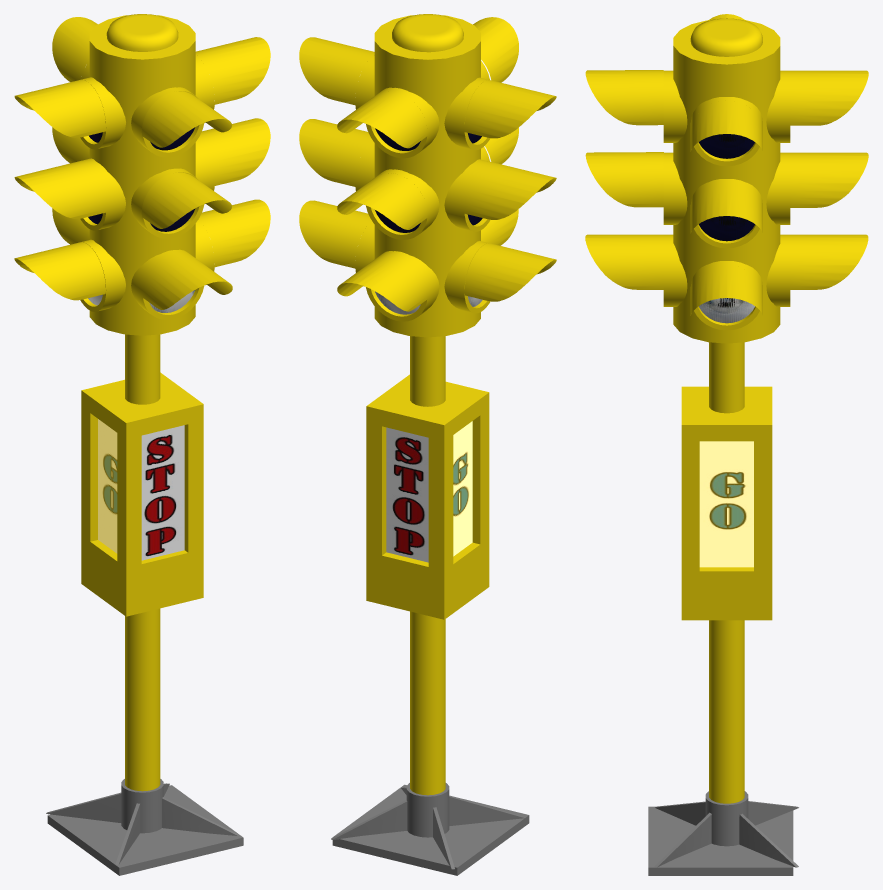
The model's file is TrafficSignal.glb.
The picture shows the model from 3 angles, left to right: view 1: azimuth 30°, elevation 25°; view 2: azimuth 150°, elevation 25°; view 3: azimuth 270°, elevation 25°; orthographic projection.
Visible parts, largest first — view 1: Cylinder001, Cylinder002, Box001, Box008, Plane001, Box006, Cylinder017, Cylinder010, Cylinder009, Cylinder016, Box005, Cylinder011 (+20 smaller); view 2: Cylinder001, Cylinder002, Box001, Box008, Plane002, Box006, Cylinder017, Cylinder010, Cylinder009, Box002, Cylinder016, Cylinder012 (+20 smaller); view 3: Cylinder001, Cylinder002, Plane004, Box008, Box001, Box006, Cylinder008, Cylinder005, Cylinder018, Cylinder006, Cylinder007, Cylinder019 (+18 smaller).
Part boxes in pixels (box(x1,y1,x2,y2)): Cylinder001: box(89, 15, 195, 335); Cylinder002: box(125, 334, 160, 791); Box001: box(81, 535, 203, 616); Box008: box(47, 785, 243, 875); Plane001: box(141, 425, 184, 560); Box006: box(81, 372, 203, 439); Cylinder017: box(14, 79, 105, 137); Cylinder010: box(14, 242, 105, 300); Cylinder009: box(14, 160, 106, 218); Cylinder016: box(195, 37, 270, 104); Box005: box(117, 433, 141, 569); Cylinder011: box(198, 118, 270, 185); Cylinder001: box(374, 15, 480, 337); Cylinder002: box(410, 336, 445, 795); Box001: box(366, 538, 489, 619); Box008: box(332, 784, 529, 875); Plane002: box(386, 427, 428, 562); Box006: box(366, 374, 489, 441); Cylinder017: box(464, 80, 556, 138); Cylinder010: box(464, 243, 556, 301); Cylinder009: box(464, 161, 556, 219); Box002: box(428, 435, 453, 571); Cylinder016: box(299, 37, 374, 104); Cylinder012: box(299, 200, 371, 268); Cylinder001: box(673, 19, 780, 343); Cylinder002: box(709, 342, 744, 803); Plane004: box(699, 441, 753, 567); Box008: box(648, 806, 793, 875); Box001: box(681, 567, 772, 620); Box006: box(681, 386, 772, 441); Cylinder008: box(585, 234, 663, 289); Cylinder005: box(790, 152, 868, 207); Cylinder018: box(790, 70, 868, 125); Cylinder006: box(790, 234, 868, 289); Cylinder007: box(585, 152, 663, 207); Cylinder019: box(585, 70, 663, 125).
Bounding box in the file's own units: 157 × 497 × 156.
Materials: 10 (8 with a texture image).
